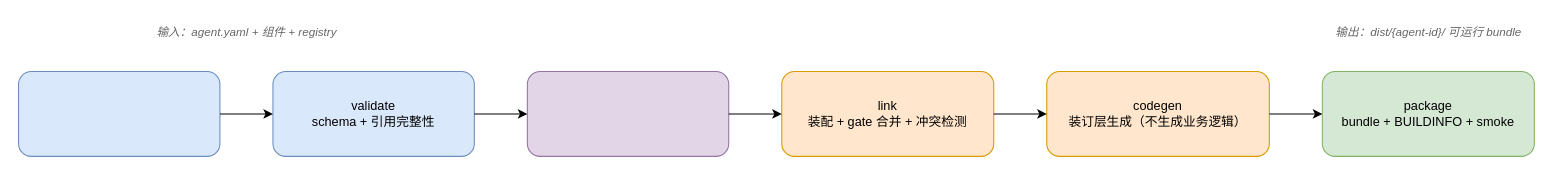
Image size: 1553x175. Some labels were removed from this diagram. Here are the shapes that lost their labels. From the top down, the centre of each, then its label:
At pixel 118 113: "resolve 依赖求解 → agent.lock".
At pixel 627 113: "lint 架构纪律（error 级阻断）".
